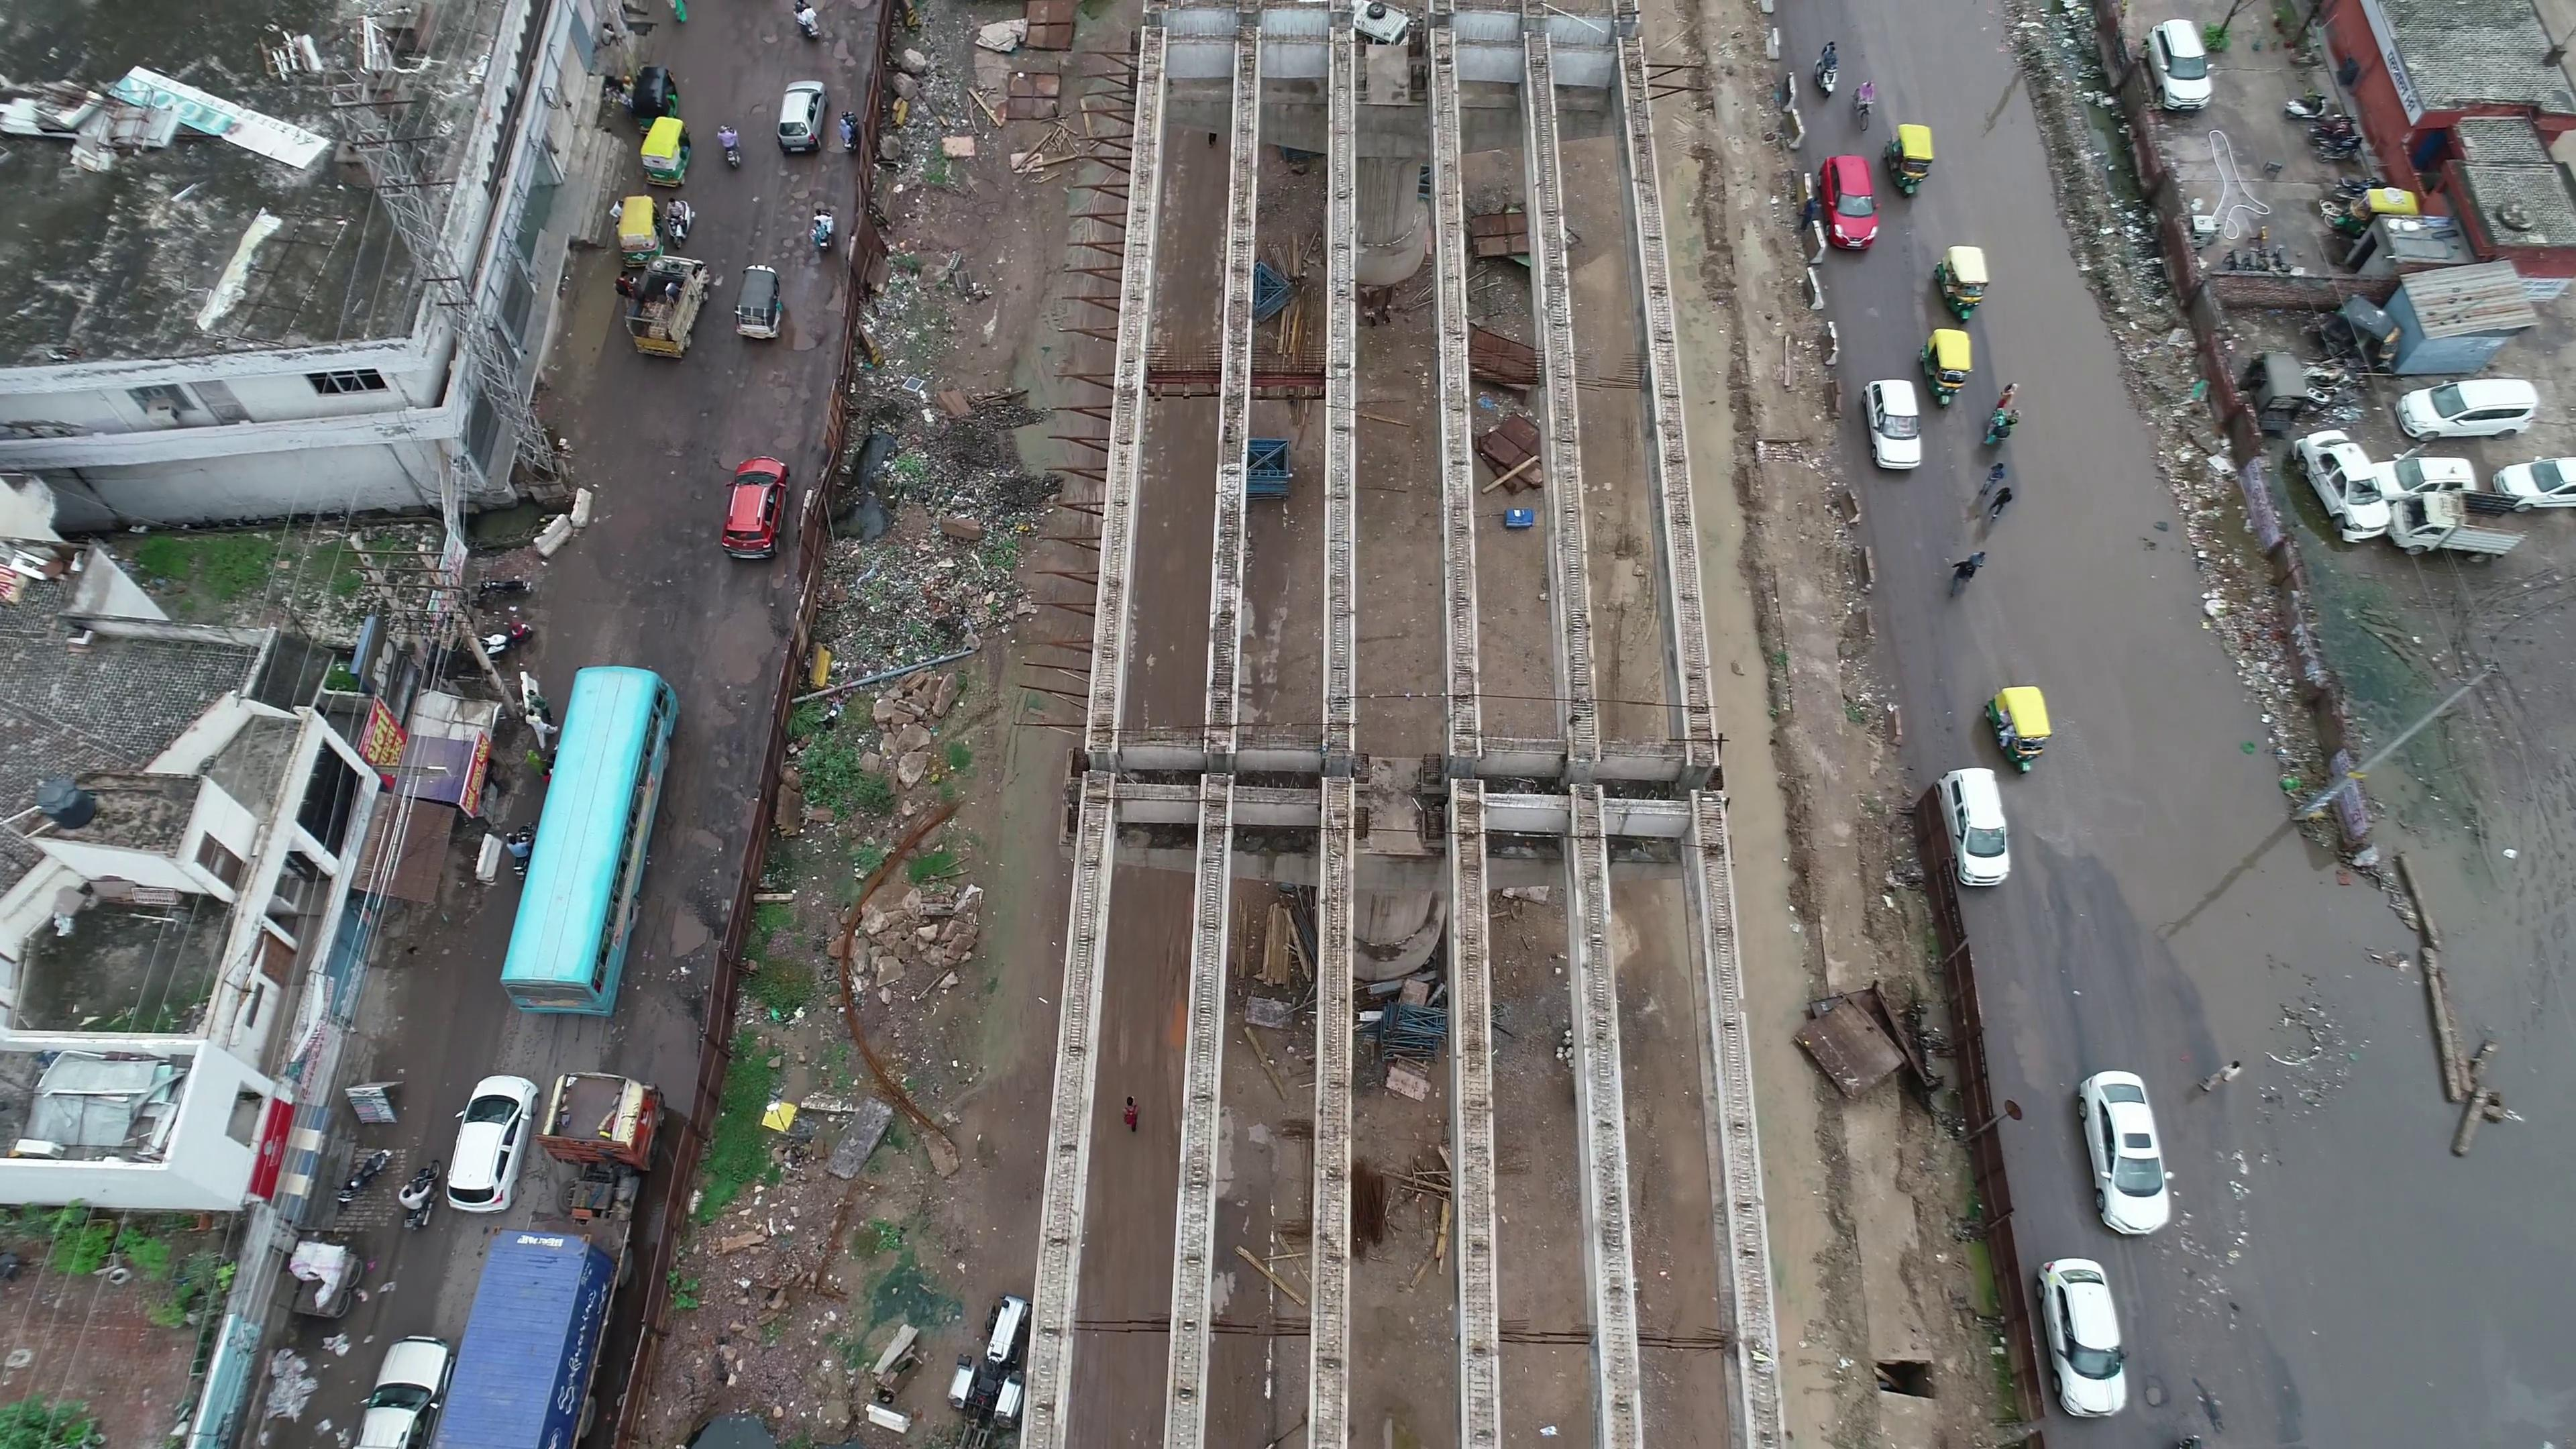Potholes: (761, 161, 833, 278), (741, 364, 814, 456), (690, 715, 750, 789), (736, 11, 791, 64), (824, 25, 870, 85), (729, 78, 777, 127)
Waterlogging: (2169, 872, 2528, 1364), (2006, 467, 2245, 849)
